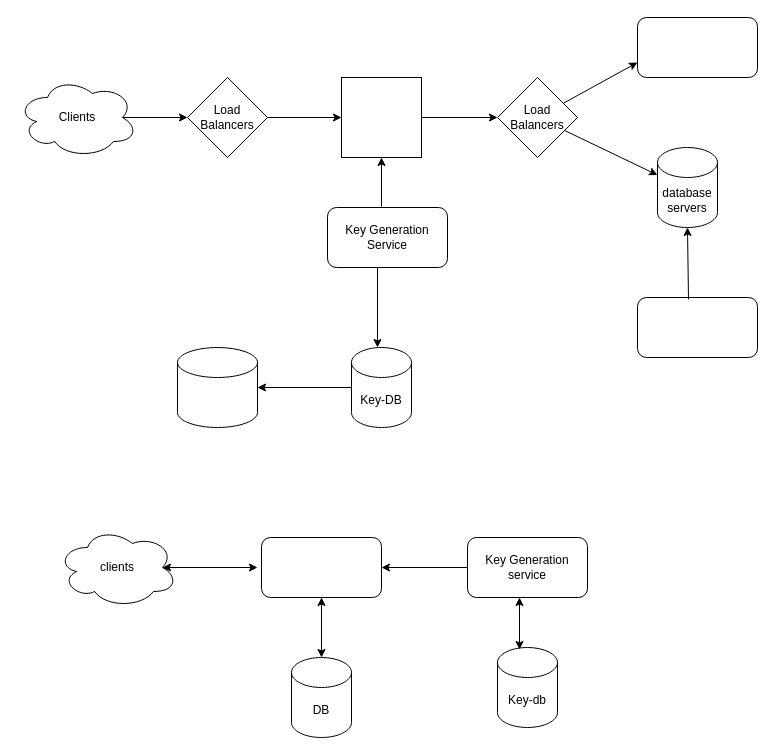
The diagram is 775 pixels wide and 755 high, and some of its shapes have lost their labels. The centre of each missing label's shape, as x and y in pixels:
"Application Server" goes at (321,567).
"Application servers" goes at (381,117).
"Cache Servers" goes at (697,47).
"Cleanup Service" goes at (697,327).
"Key-DB(standby)" goes at (217,387).
